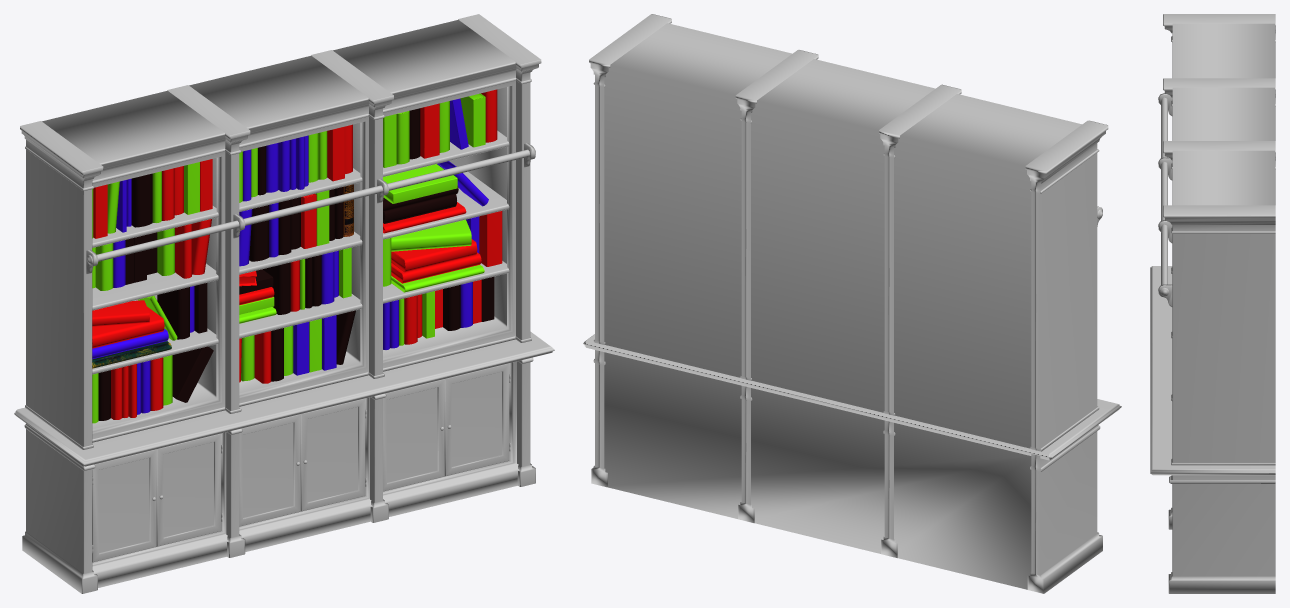
The model's file is Bookcase3.FBX.
3 views of the same model, side by side, from view 1: azimuth 30°, elevation 25°; view 2: azimuth 150°, elevation 25°; view 3: azimuth 270°, elevation 25° (orthographic). The views are drawn at different scales.
Visible parts, largest first — view 1: cupboard3_008, Books246, Books251, Books247, Books270, cupboard007, cupboard006, cupboard008, cupboard3_005, cupboard3_006, cupboard3_007; view 2: cupboard3_008; view 3: cupboard3_008.
Boxes of the visible parts, x1,y1,x2,y2 form: cupboard3_008: [14, 14, 554, 593]; Books246: [92, 211, 502, 368]; Books251: [92, 89, 497, 238]; Books247: [92, 276, 494, 423]; Books270: [92, 161, 488, 290]; cupboard007: [300, 398, 365, 511]; cupboard006: [156, 433, 221, 546]; cupboard008: [445, 363, 509, 476]; cupboard3_005: [92, 449, 156, 562]; cupboard3_006: [239, 414, 300, 526]; cupboard3_007: [383, 379, 444, 491]; cupboard3_008: [583, 14, 1121, 593]; cupboard3_008: [1150, 14, 1275, 593].
Size of the model in its own units: 324 by 279 by 83.43.
